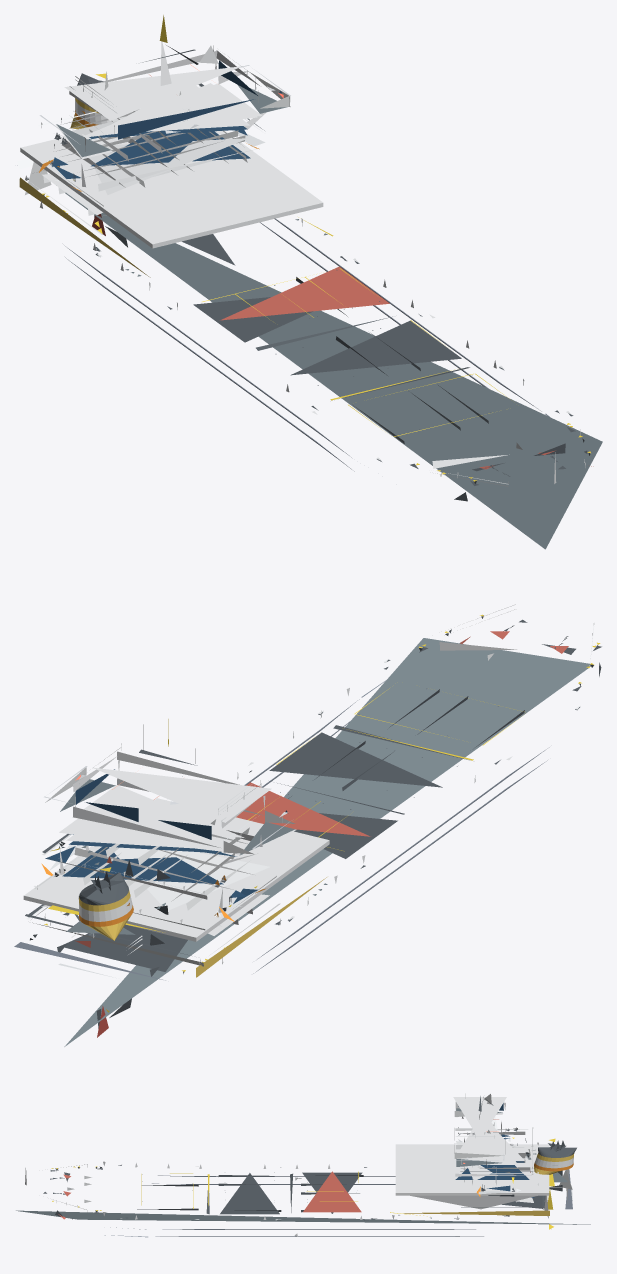
File: ship_14.glb
3 views of the same model, one above another, from view 1: azimuth 30°, elevation 25°; view 2: azimuth 150°, elevation 25°; view 3: azimuth 270°, elevation 25° (orthographic). The views are drawn at different scales.
Visible parts, largest first — view 1: TrueHelm_Ship_14; view 2: TrueHelm_Ship_14; view 3: TrueHelm_Ship_14.
Boxes of the visible parts, x1,y1,x2,y2 form: TrueHelm_Ship_14: (17,15,602,549); TrueHelm_Ship_14: (14,604,601,1046); TrueHelm_Ship_14: (16,1093,590,1237).
Size of the model in its own units: 0.1546 by 0.188 by 0.6477.
